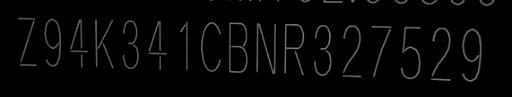letter: (280, 20, 310, 77), (90, 14, 118, 73), (366, 22, 394, 81), (396, 23, 424, 82), (12, 14, 40, 71), (250, 20, 278, 77), (144, 17, 170, 76), (338, 23, 364, 82), (428, 24, 454, 83), (458, 26, 484, 85), (196, 21, 224, 74), (225, 20, 251, 77), (310, 23, 336, 78), (119, 18, 143, 75), (41, 16, 65, 71), (66, 17, 90, 68), (176, 18, 192, 77)
